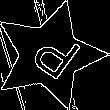P_SW: (18, 24, 81, 87)
